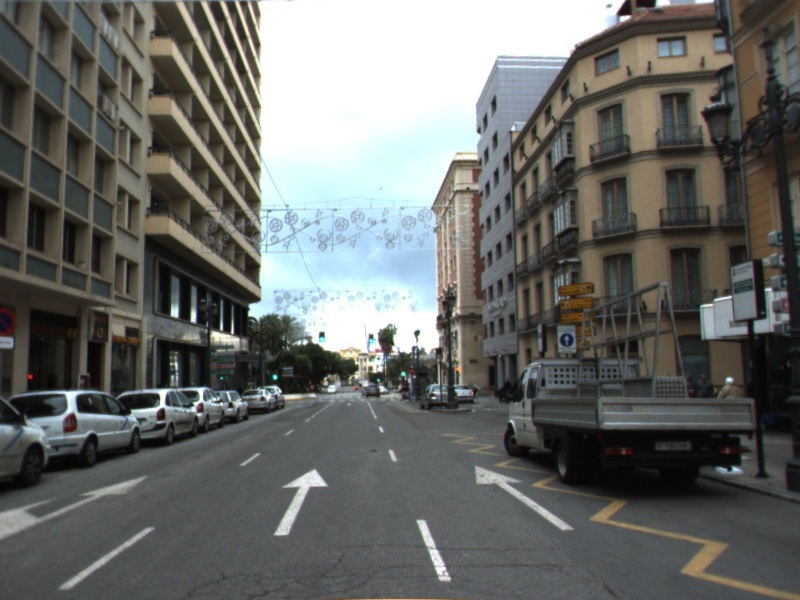STRAIGHT: (472, 463, 579, 533), (270, 466, 332, 538)
STRAIGHT_LEFT: (1, 470, 152, 542)
